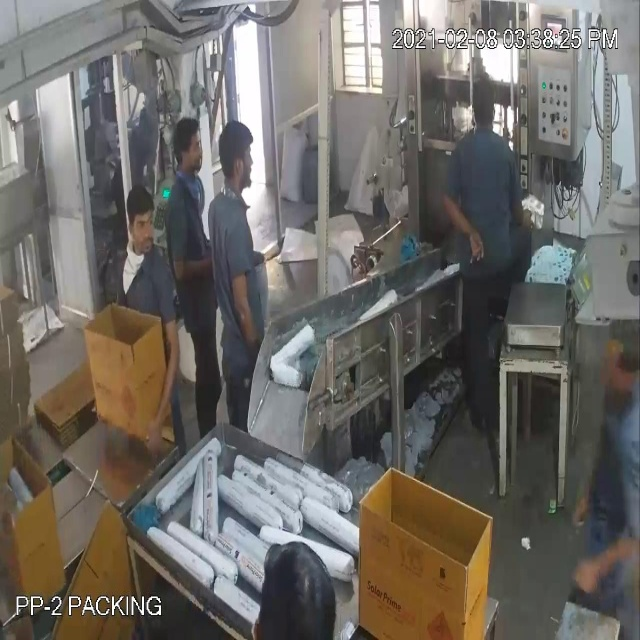Sin_guantes: (144, 301, 184, 460), (228, 260, 268, 359), (443, 182, 489, 260), (165, 240, 226, 287)
